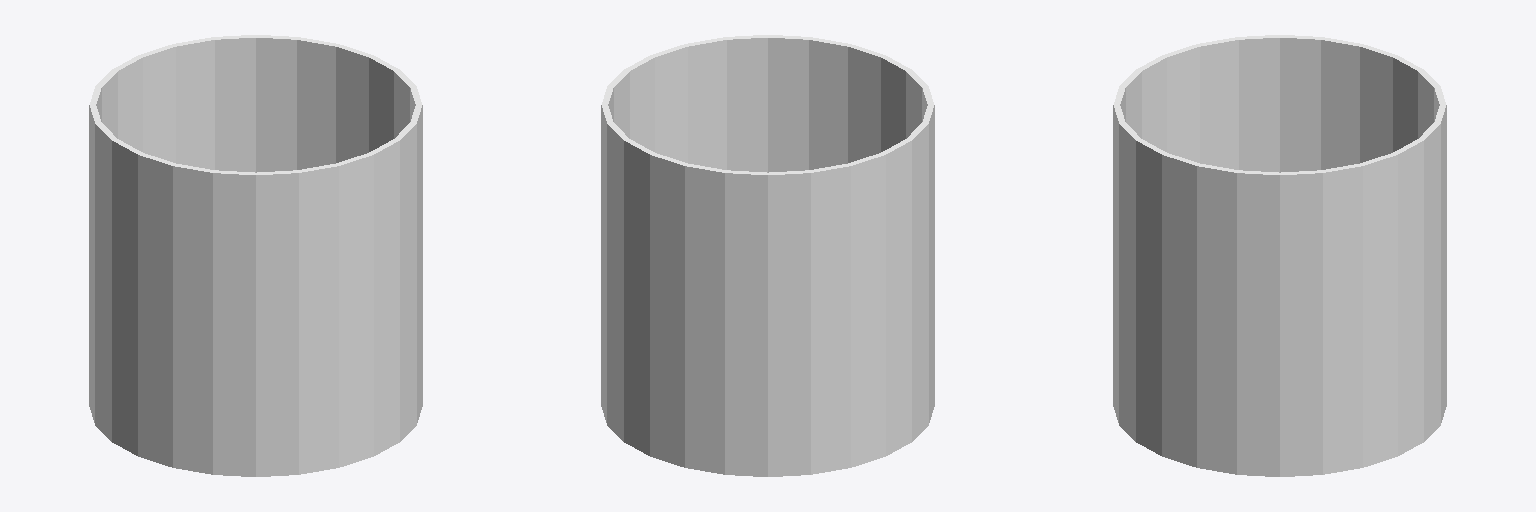
File: open_cylinder_topbottom.obj
The picture shows the model from 3 angles: view 1: azimuth 30°, elevation 25°; view 2: azimuth 150°, elevation 25°; view 3: azimuth 270°, elevation 25°; orthographic projection.
Parts seen in each view (by area): view 1: Cylinder1_cut3, Cylinder1_cut4, Cylinder1_cut2, Cylinder1_cut7, Cylinder1, Cylinder1_cut5, Cylinder1_cut6, Cylinder1_cut8; view 2: Cylinder1_cut6, Cylinder1_cut5, Cylinder1_cut7, Cylinder1_cut2, Cylinder1_cut8, Cylinder1_cut4, Cylinder1_cut3, Cylinder1; view 3: Cylinder1_cut8, Cylinder1, Cylinder1_cut7, Cylinder1_cut2, Cylinder1_cut5, Cylinder1_cut4, Cylinder1_cut6, Cylinder1_cut3.
Boxes of the visible parts, x1=… form: Cylinder1_cut3: x1=213, y1=164, x2=338, y2=476; Cylinder1_cut4: x1=112, y1=139, x2=214, y2=474; Cylinder1_cut2: x1=336, y1=123, x2=416, y2=467; Cylinder1_cut7: x1=173, y1=35, x2=298, y2=172; Cylinder1: x1=297, y1=37, x2=399, y2=169; Cylinder1_cut5: x1=89, y1=87, x2=116, y2=441; Cylinder1_cut6: x1=95, y1=44, x2=175, y2=162; Cylinder1_cut8: x1=394, y1=70, x2=422, y2=422; Cylinder1_cut6: x1=685, y1=164, x2=810, y2=476; Cylinder1_cut5: x1=809, y1=139, x2=911, y2=474; Cylinder1_cut7: x1=607, y1=123, x2=687, y2=467; Cylinder1_cut2: x1=725, y1=35, x2=850, y2=172; Cylinder1_cut8: x1=624, y1=37, x2=726, y2=169; Cylinder1_cut4: x1=907, y1=87, x2=934, y2=441; Cylinder1_cut3: x1=848, y1=44, x2=928, y2=162; Cylinder1: x1=601, y1=70, x2=629, y2=422; Cylinder1_cut8: x1=1162, y1=153, x2=1279, y2=476; Cylinder1: x1=1280, y1=153, x2=1397, y2=476; Cylinder1_cut7: x1=1393, y1=105, x2=1446, y2=455; Cylinder1_cut2: x1=1113, y1=105, x2=1166, y2=455; Cylinder1_cut5: x1=1280, y1=35, x2=1396, y2=172; Cylinder1_cut4: x1=1163, y1=35, x2=1279, y2=172; Cylinder1_cut6: x1=1393, y1=55, x2=1445, y2=151; Cylinder1_cut3: x1=1114, y1=55, x2=1166, y2=151.
Bounding box in the file's own units: 1 × 1 × 1.